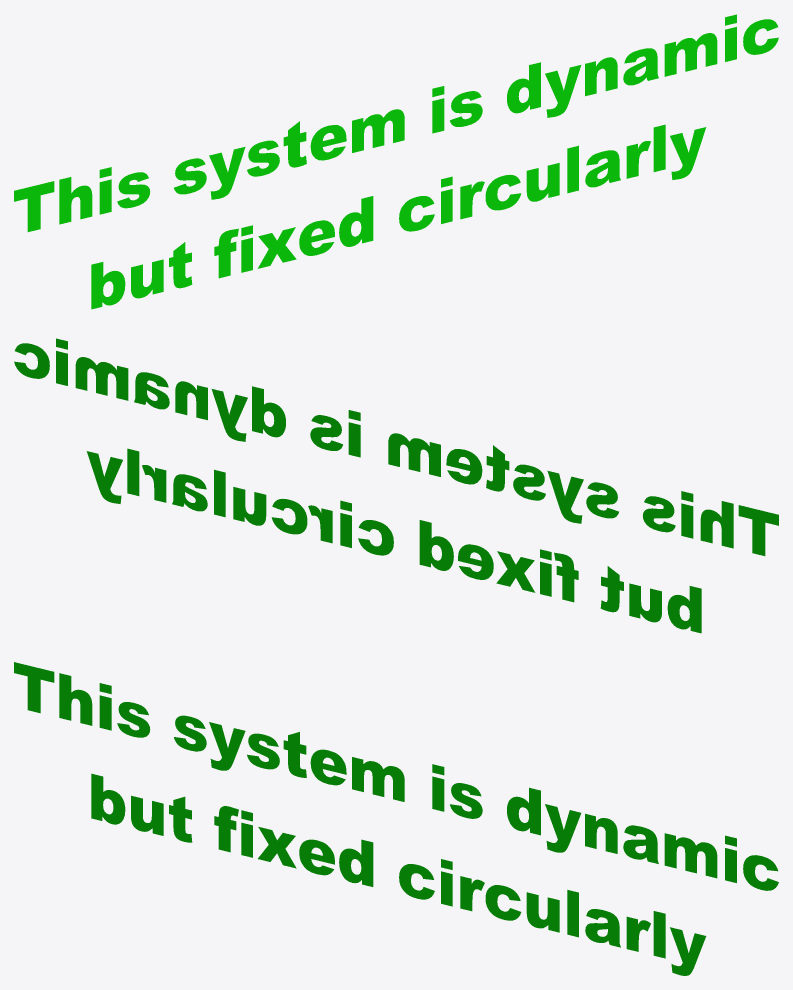
Rendered from tutorial_3.dae.
3 views of the same model, one above another, from view 1: azimuth 30°, elevation 25°; view 2: azimuth 150°, elevation 25°; view 3: azimuth 330°, elevation 25° (orthographic).
Parts seen in each view (by area): view 1: This_system_is_d (×32); view 2: This_system_is_d (×32); view 3: This_system_is_d (×30).
Part boxes in pixels (x1,y1,x2,y2): This_system_is_d (×32): (14, 19, 778, 309); This_system_is_d (×32): (14, 343, 778, 633); This_system_is_d (×30): (14, 662, 778, 975).
Size of the model in its own units: 3514 by 1.83e-14 by 662.
